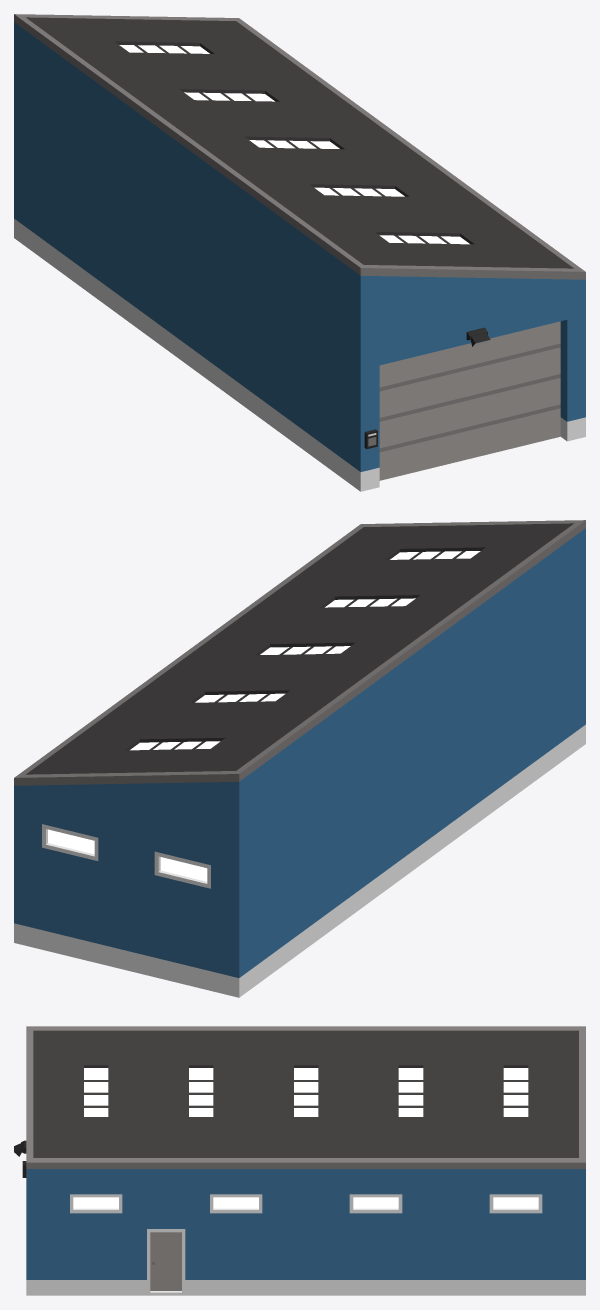
The model's file is buildings-industry-storage.glb.
The picture shows the model from 3 angles, top to bottom: view 1: azimuth 30°, elevation 25°; view 2: azimuth 150°, elevation 25°; view 3: azimuth 270°, elevation 25°; orthographic projection. The views are drawn at different scales.
Visible parts, largest first — view 1: industry-storage; view 2: industry-storage; view 3: industry-storage.
Boxes of the visible parts, x1,y1,x2,y2 form: industry-storage: (14, 14, 585, 491); industry-storage: (14, 520, 585, 997); industry-storage: (14, 1026, 585, 1295).
Bounding box in the file's own units: 6 × 5.7 × 16.35.
